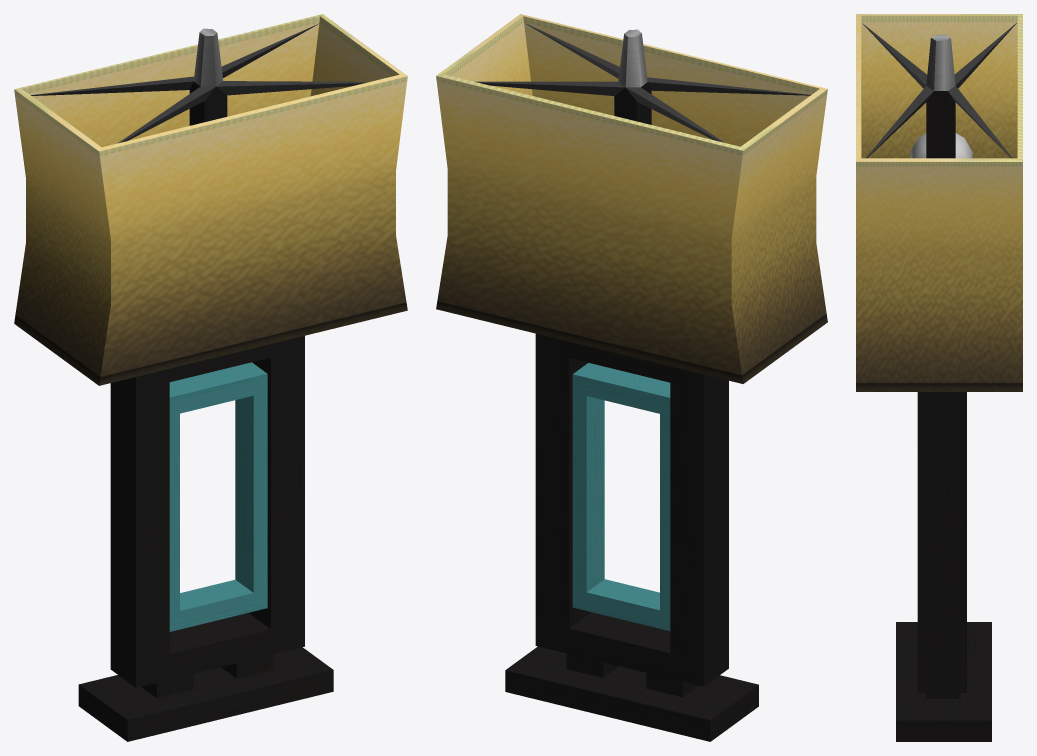
Rendered from Table_Lamp_E.FBX.
3 renders of one model, left to right at view 1: azimuth 30°, elevation 25°; view 2: azimuth 150°, elevation 25°; view 3: azimuth 270°, elevation 25°, orthographic.
Parts seen in each view (by area): view 1: Lamp; view 2: Lamp; view 3: Lamp.
Boxes of the visible parts, x1,y1,x2,y2 form: Lamp: (14,14,407,741); Lamp: (436,14,827,741); Lamp: (856,14,1022,741).
Bounding box in the file's own units: 83.89 × 173 × 40.
